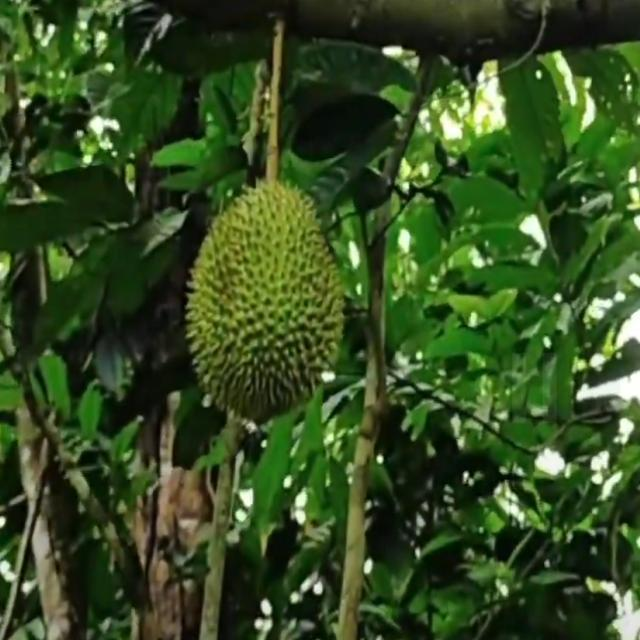immature: (185, 176, 348, 424)
